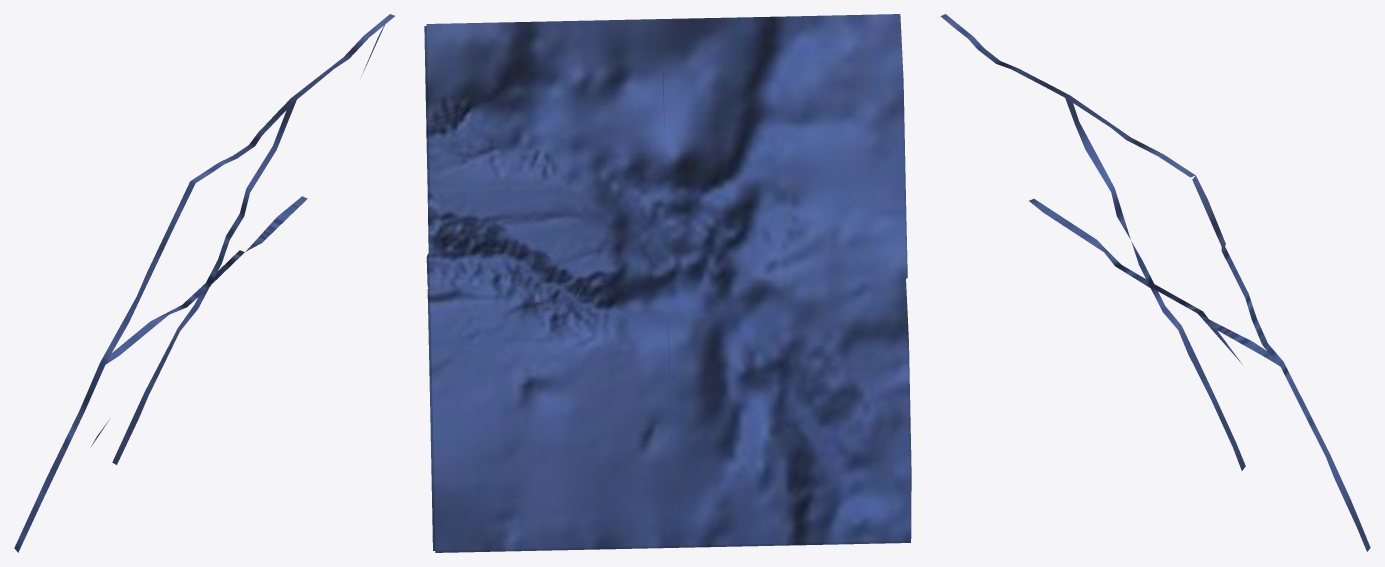
The picture shows the model from 3 angles, left to right: view 1: azimuth 30°, elevation 25°; view 2: azimuth 150°, elevation 25°; view 3: azimuth 270°, elevation 25°; orthographic projection. The views are drawn at different scales.
Size of the model in its own units: 38660 by 36338 by 33299.
Materials: 1 (1 with a texture image).
